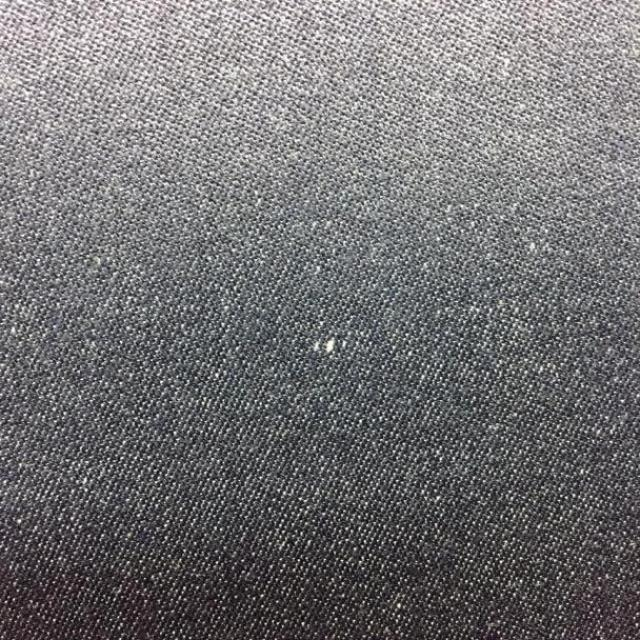Knot: (312, 337, 348, 355)
